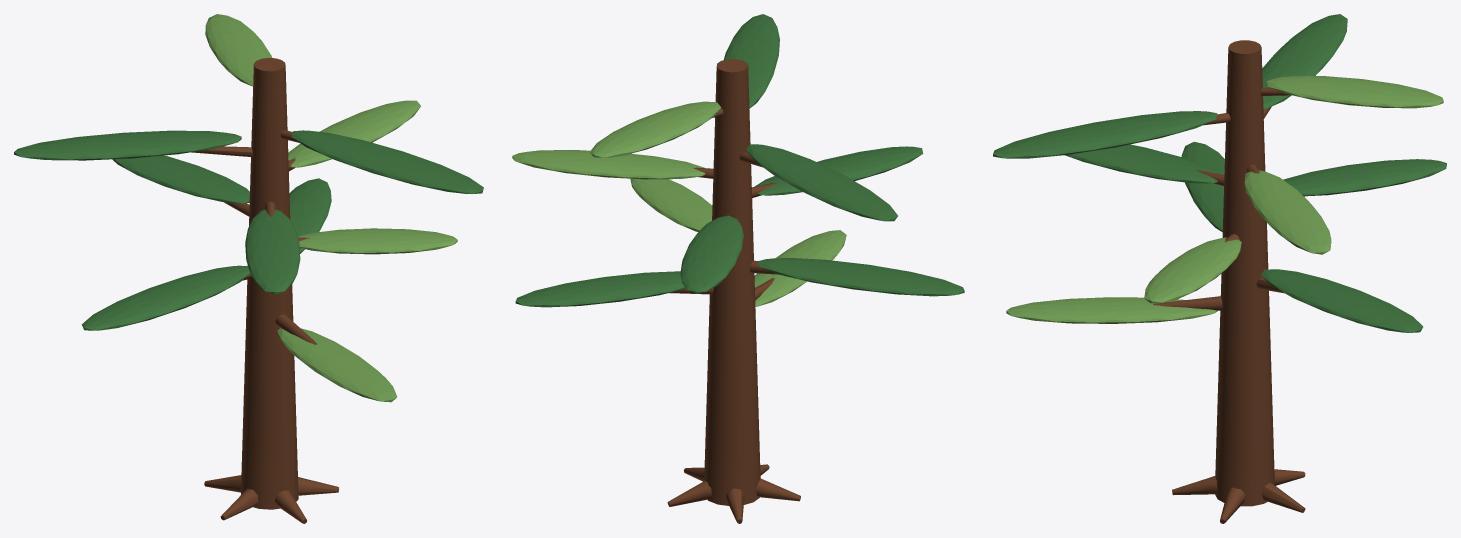
File: giant-fern-tree.glb
3 renders of one model, left to right at view 1: azimuth 30°, elevation 25°; view 2: azimuth 150°, elevation 25°; view 3: azimuth 270°, elevation 25°, orthographic. The views are drawn at different scales.
Parts seen in each view (by area): view 1: trunk, foliage-7, foliage-8, foliage-2, foliage-0, foliage-5, foliage-3, foliage-4, foliage-6, foliage-9, foliage-1, root-flare-4; view 2: trunk, foliage-2, foliage-7, foliage-6, foliage-1, foliage-9, foliage-4, foliage-8, foliage-5, foliage-3, foliage-0, root-flare-2 (+1 smaller); view 3: trunk, foliage-8, foliage-1, foliage-0, foliage-6, foliage-9, foliage-4, foliage-7, foliage-3, foliage-5, foliage-2, root-flare-2 (+3 smaller).
Part boxes in pixels (x1,y1,x2,y2): trunk: [241, 58, 298, 509]; foliage-7: [14, 130, 241, 160]; foliage-8: [291, 130, 483, 193]; foliage-2: [81, 265, 250, 330]; foliage-0: [277, 328, 397, 402]; foliage-5: [245, 209, 300, 294]; foliage-3: [298, 228, 457, 254]; foliage-4: [112, 155, 249, 203]; foliage-6: [288, 100, 420, 167]; foliage-9: [205, 14, 271, 86]; foliage-1: [289, 178, 331, 253]; root-flare-4: [220, 488, 258, 520]; trunk: [704, 59, 760, 505]; foliage-2: [757, 258, 964, 296]; foliage-7: [746, 144, 897, 221]; foliage-6: [512, 150, 705, 179]; foliage-1: [515, 271, 685, 307]; foliage-9: [590, 101, 720, 157]; foliage-4: [680, 215, 743, 293]; foliage-8: [724, 14, 779, 108]; foliage-5: [754, 146, 923, 195]; foliage-3: [630, 178, 712, 231]; foliage-0: [754, 230, 846, 306]; root-flare-2: [667, 481, 711, 506]; trunk: [1215, 40, 1274, 506]; foliage-8: [993, 111, 1217, 158]; foliage-1: [1261, 269, 1423, 332]; foliage-0: [1006, 297, 1217, 323]; foliage-6: [1244, 170, 1331, 254]; foliage-9: [1266, 76, 1443, 108]; foliage-4: [1283, 159, 1446, 196]; foliage-7: [1262, 14, 1347, 108]; foliage-3: [1144, 237, 1241, 303]; foliage-5: [1065, 144, 1220, 183]; foliage-2: [1181, 141, 1224, 231]; root-flare-2: [1261, 482, 1305, 512].
Size of the model in its own units: 5.61 by 5.89 by 5.41.
